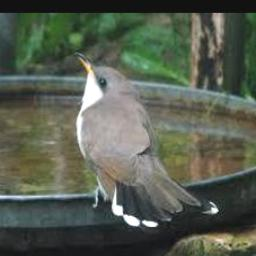Cuckoo: (71, 52, 219, 227)
